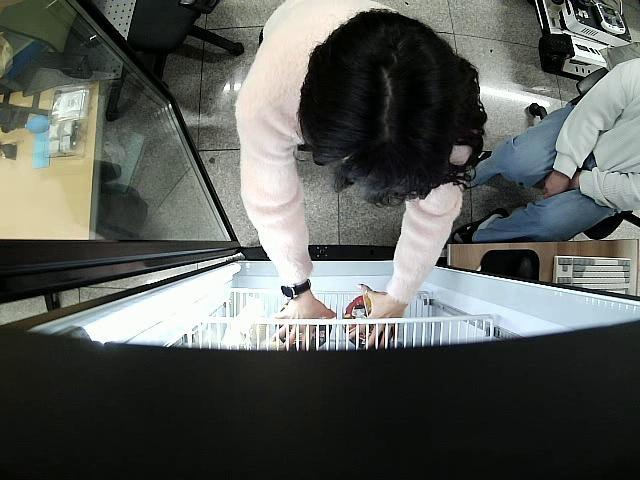07_buldak_L: (342, 296, 396, 347), (277, 301, 330, 350)
